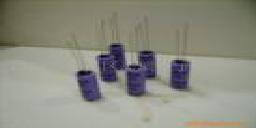Electrolytic-capacitor: (66, 34, 101, 98), (170, 22, 191, 90), (123, 61, 152, 98), (96, 52, 119, 84)
